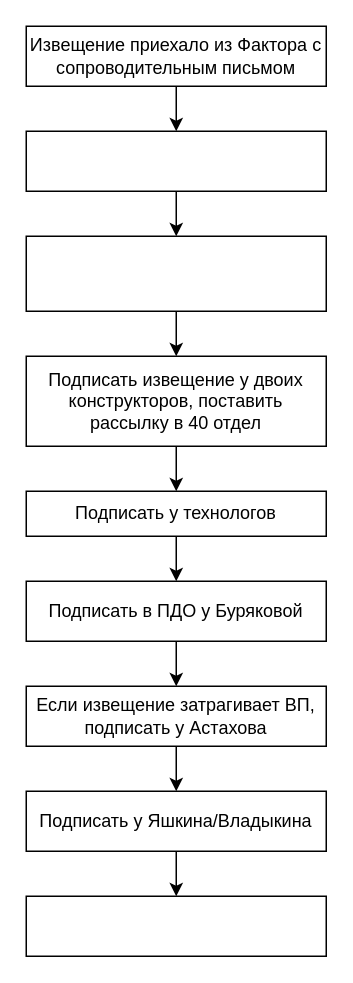
This 353x983 diagram has some shape labels left out. Each missing label, with the centre of its shape:
"Воронина, Боровикова обрабатывают документы, Коваленко приносит в каб. 513" goes at point (175, 273).
"Регистрация письма в канцелярии через Яшкину, Кирюхину либо самостоятельно" goes at point (175, 160).
"Сдать нормоконтролёру (Жуковой)" goes at point (175, 925).
